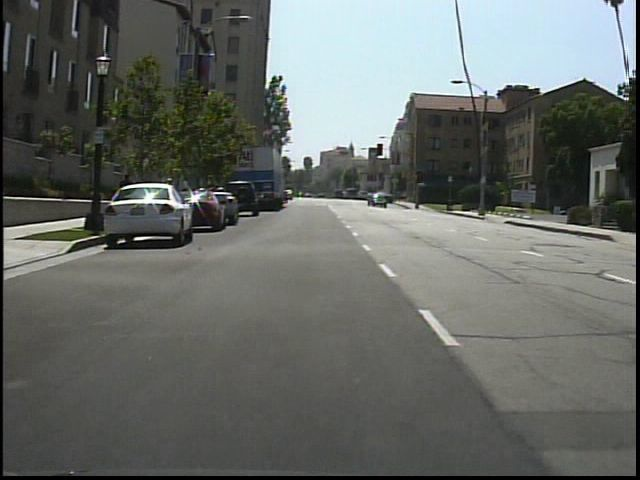person: (118, 167, 138, 219)
